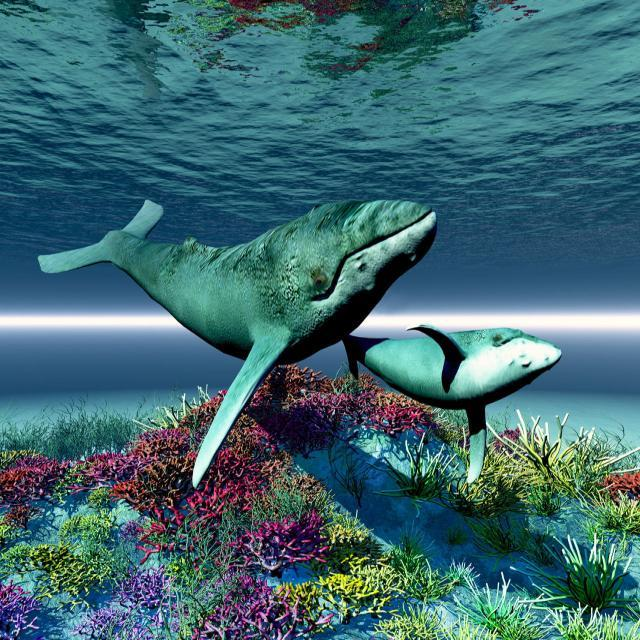blue_whale: (54, 146, 441, 488), (334, 277, 584, 488)
